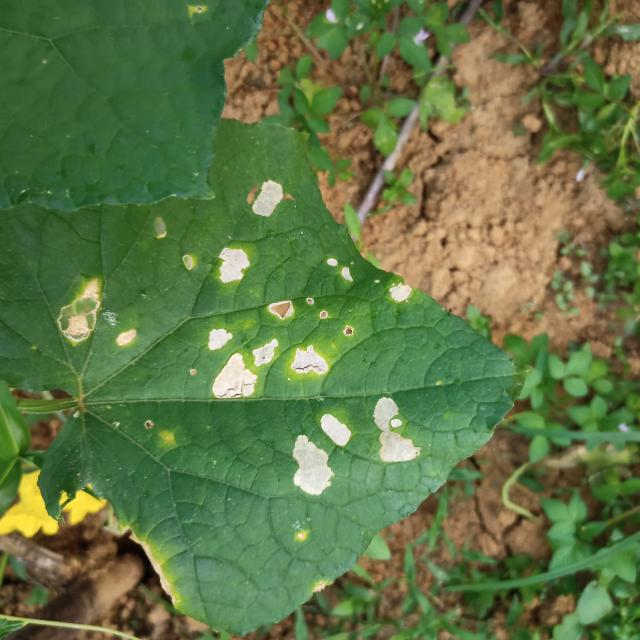disease_cucumber: (207, 297, 331, 401), (55, 276, 138, 350), (290, 411, 355, 499), (369, 394, 424, 466), (249, 178, 287, 220), (215, 245, 250, 286), (321, 255, 359, 287), (387, 280, 413, 306)
